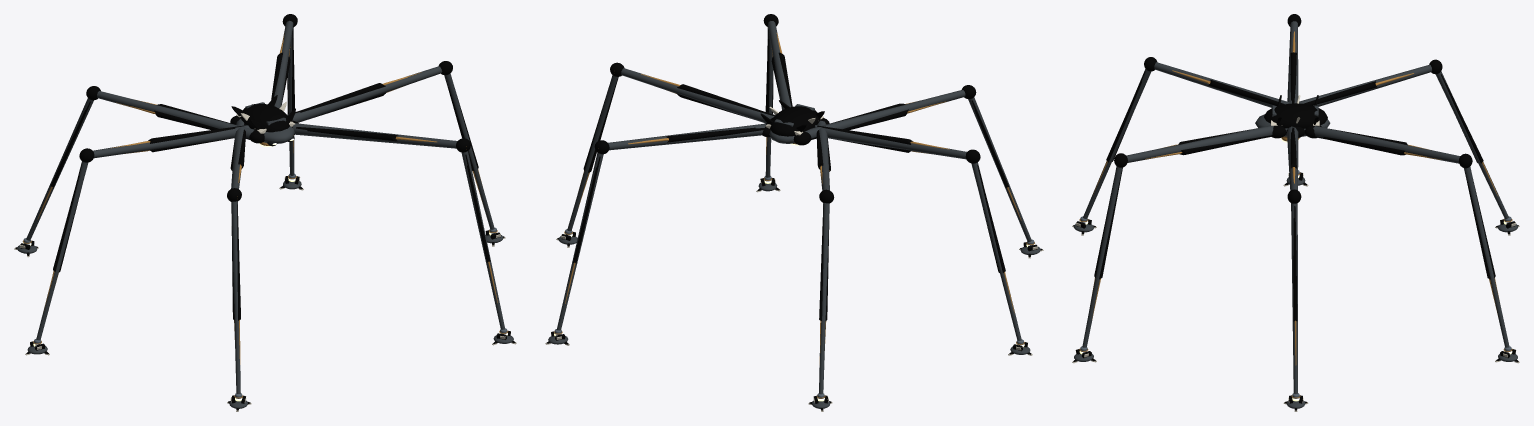
File: warden-machine-cloud-strider-v1.glb
3 renders of one model, left to right at view 1: azimuth 30°, elevation 25°; view 2: azimuth 150°, elevation 25°; view 3: azimuth 270°, elevation 25°, orthographic.
Visible parts, largest first — view 1: Suspended crawler carrier, Upper truss 5 / Repeated Upper truss 0 (×2), Upper truss 3 / Repeated Upper truss 0, Upper truss 2 / Repeated Upper truss 0, Upper truss 4 / Repeated Upper truss 0, Telescoping shank 0 / Repeated Telescoping shank 0, Telescoping shank 2 / Repeated Telescoping shank 0, Telescoping shank 5 / Repeated Telescoping shank 0, Telescoping shank 3 / Repeated Telescoping shank 0, Telescoping shank 4 / Repeated Telescoping shank 0, Upper truss 1 / Repeated Upper truss 0, Upper truss 0 / Repeated Upper truss 0 (+1 smaller); view 2: Suspended crawler carrier, Upper truss 1 / Repeated Upper truss 0 (×2), Upper truss 3 / Repeated Upper truss 0, Upper truss 0 / Repeated Upper truss 0, Upper truss 2 / Repeated Upper truss 0, Telescoping shank 4 / Repeated Telescoping shank 0, Telescoping shank 2 / Repeated Telescoping shank 0, Telescoping shank 3 / Repeated Telescoping shank 0, Telescoping shank 1 / Repeated Telescoping shank 0, Telescoping shank 0 / Repeated Telescoping shank 0, Upper truss 5 / Repeated Upper truss 0, Upper truss 4 / Repeated Upper truss 0 (+1 smaller); view 3: Suspended crawler carrier, Upper truss 0 / Repeated Upper truss 0 (×2), Telescoping shank 3 / Repeated Telescoping shank 0 (×2), Upper truss 4 / Repeated Upper truss 0 (×2), Upper truss 5 / Repeated Upper truss 0, Upper truss 1 / Repeated Upper truss 0, Telescoping shank 5 / Repeated Telescoping shank 0, Telescoping shank 1 / Repeated Telescoping shank 0, Telescoping shank 0 / Repeated Telescoping shank 0, Telescoping shank 4 / Repeated Telescoping shank 0, Upper truss 2 / Repeated Upper truss 0, Upper truss 3 / Repeated Upper truss 0.
Boxes of the visible parts, x1,y1,x2,y2 form: Suspended crawler carrier: (230, 95, 298, 146); Upper truss 5 / Repeated Upper truss 0 (×2): (293, 123, 457, 148); Upper truss 3 / Repeated Upper truss 0: (287, 66, 442, 122); Upper truss 2 / Repeated Upper truss 0: (93, 125, 250, 158); Upper truss 4 / Repeated Upper truss 0: (97, 91, 254, 139); Telescoping shank 0 / Repeated Telescoping shank 0: (231, 201, 240, 393); Telescoping shank 2 / Repeated Telescoping shank 0: (36, 161, 88, 340); Telescoping shank 5 / Repeated Telescoping shank 0: (461, 151, 505, 329); Telescoping shank 3 / Repeated Telescoping shank 0: (444, 73, 494, 229); Telescoping shank 4 / Repeated Telescoping shank 0: (26, 98, 93, 240); Upper truss 1 / Repeated Upper truss 0: (274, 20, 293, 108); Upper truss 0 / Repeated Upper truss 0: (231, 118, 244, 188); Suspended crawler carrier: (760, 100, 829, 145); Upper truss 1 / Repeated Upper truss 0 (×2): (608, 123, 766, 150); Upper truss 3 / Repeated Upper truss 0: (621, 68, 775, 123); Upper truss 0 / Repeated Upper truss 0: (805, 90, 965, 139); Upper truss 2 / Repeated Upper truss 0: (815, 125, 966, 159); Telescoping shank 4 / Repeated Telescoping shank 0: (819, 203, 829, 394); Telescoping shank 2 / Repeated Telescoping shank 0: (971, 162, 1021, 340); Telescoping shank 3 / Repeated Telescoping shank 0: (567, 75, 618, 231); Telescoping shank 1 / Repeated Telescoping shank 0: (556, 152, 603, 330); Telescoping shank 0 / Repeated Telescoping shank 0: (968, 97, 1031, 241); Upper truss 5 / Repeated Upper truss 0: (768, 21, 791, 110); Upper truss 4 / Repeated Upper truss 0: (817, 120, 829, 190); Suspended crawler carrier: (1255, 95, 1330, 138); Upper truss 0 / Repeated Upper truss 0 (×2): (1154, 62, 1291, 107); Telescoping shank 3 / Repeated Telescoping shank 0 (×2): (1291, 203, 1297, 393); Upper truss 4 / Repeated Upper truss 0 (×2): (1296, 64, 1431, 106); Upper truss 5 / Repeated Upper truss 0: (1126, 125, 1273, 162); Upper truss 1 / Repeated Upper truss 0: (1313, 126, 1460, 163); Telescoping shank 5 / Repeated Telescoping shank 0: (1082, 166, 1122, 347); Telescoping shank 1 / Repeated Telescoping shank 0: (1464, 167, 1509, 347); Telescoping shank 0 / Repeated Telescoping shank 0: (1083, 69, 1151, 218); Telescoping shank 4 / Repeated Telescoping shank 0: (1435, 71, 1508, 218); Upper truss 2 / Repeated Upper truss 0: (1287, 21, 1298, 103); Upper truss 3 / Repeated Upper truss 0: (1287, 126, 1298, 190).
Bounding box in the file's own units: 37.56 × 14.59 × 30.29.
Materials: 7 (1 with a texture image).
